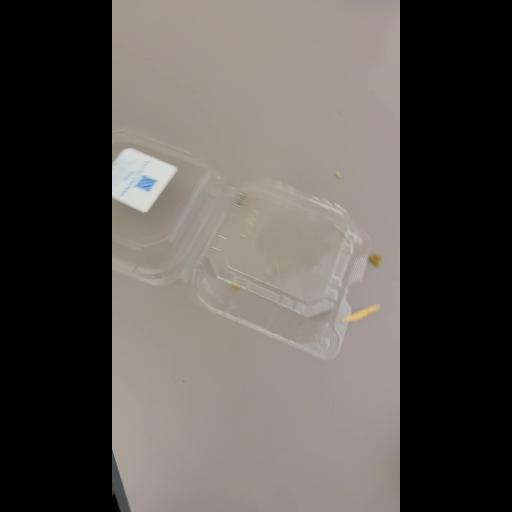small_plastic_container: (112, 126, 378, 368)
